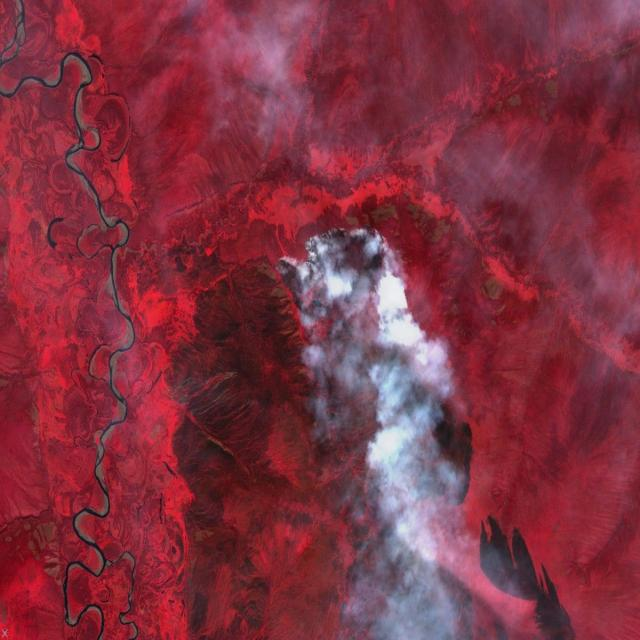fire: (269, 218, 402, 310)
